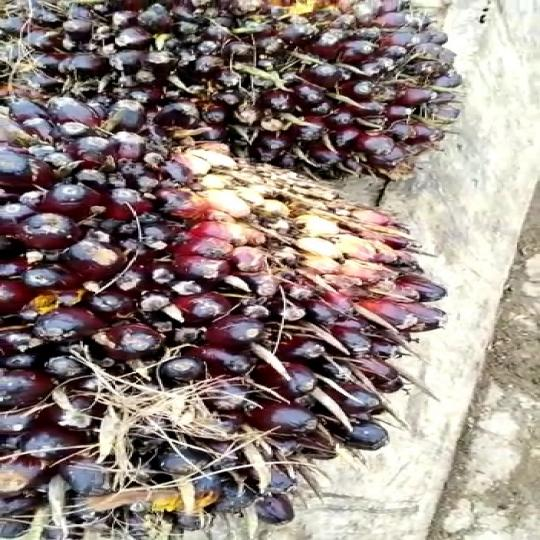kurang masak: (0, 0, 457, 540)
